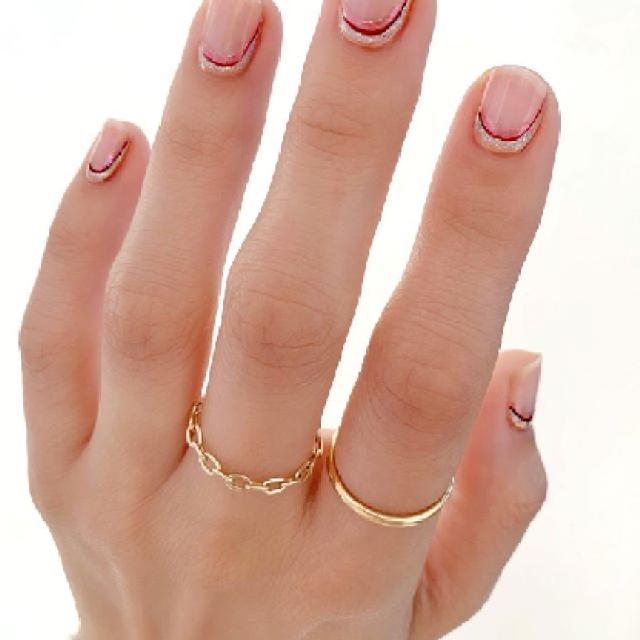Nail: (474, 65, 550, 152), (199, 0, 262, 76), (341, 0, 412, 48), (86, 121, 134, 182), (509, 359, 538, 429)
